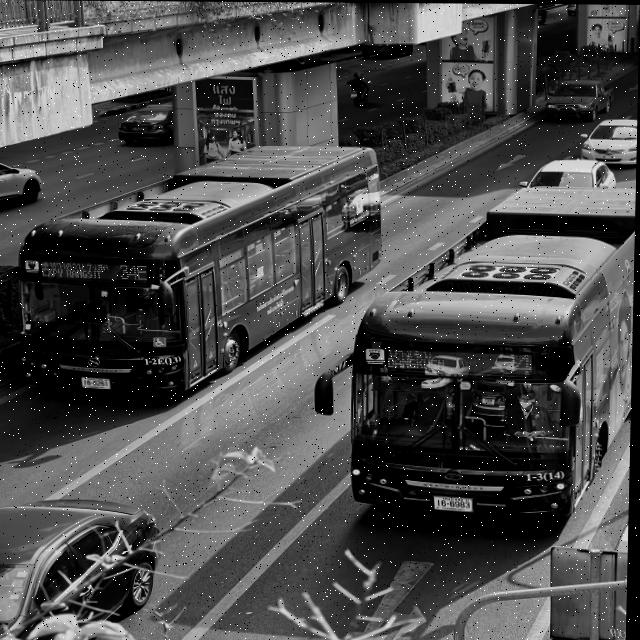Bus-Line-Number: (492, 349, 539, 376), (116, 259, 155, 284)
Destination-Sign-Normal: (37, 259, 112, 282), (385, 347, 452, 372)
TSB-Bus: (346, 182, 637, 519), (16, 143, 386, 398)
